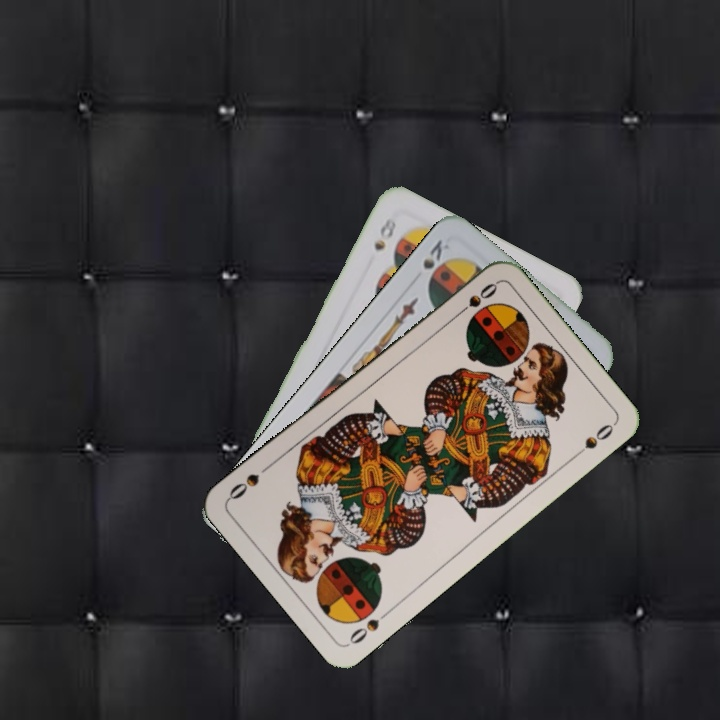S8: (369, 213, 399, 253)
SK: (418, 235, 452, 272)
SO: (450, 278, 500, 321), (345, 605, 394, 647)
